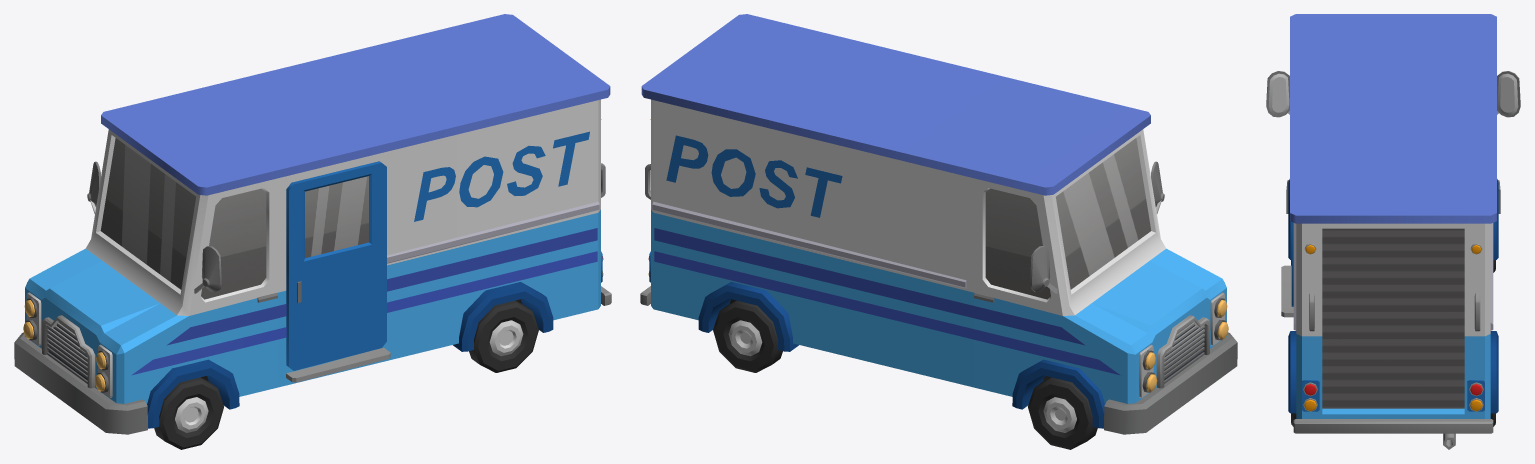
File: PostCar_1_C.gltf
3 views of the same model, side by side, from view 1: azimuth 30°, elevation 25°; view 2: azimuth 150°, elevation 25°; view 3: azimuth 270°, elevation 25° (orthographic).
Parts seen in each view (by area): view 1: PostCar_1_C, RL, FL; view 2: PostCar_1_C, RR, FR; view 3: PostCar_1_C.
Boxes of the visible parts, <box> form: PostCar_1_C: <box>14,14,611,434</box>; RL: <box>469,300,538,372</box>; FL: <box>154,377,223,449</box>; PostCar_1_C: <box>640,14,1237,434</box>; RR: <box>713,300,782,372</box>; FR: <box>1028,377,1097,449</box>; PostCar_1_C: <box>1266,14,1520,449</box>.
Bounding box in the file's own units: 4.14 × 2.02 × 1.8.
Materials: 5 (5 with a texture image).
